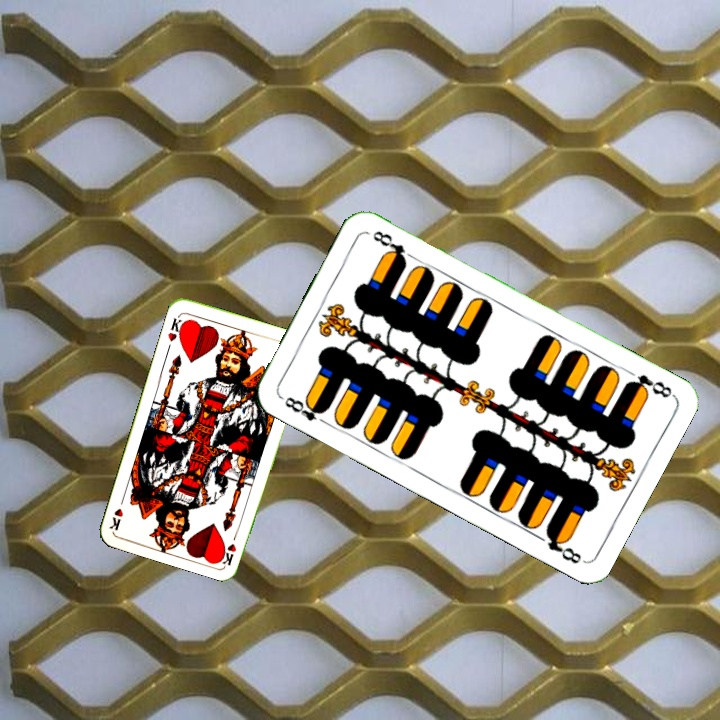E8: (280, 392, 331, 428), (622, 370, 676, 401)
HK: (219, 526, 241, 567), (164, 311, 188, 344)
